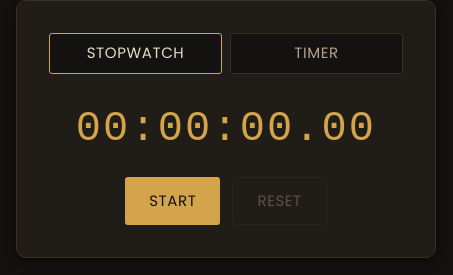
Stopwatch — stopwatch mode › resumes from where it paused, not from zero
This screenshot has width=453, height=275.
Click the button "Start". click: (173, 201)
box: x1=125 y1=176 x2=220 y2=225
Wait 1000 ms
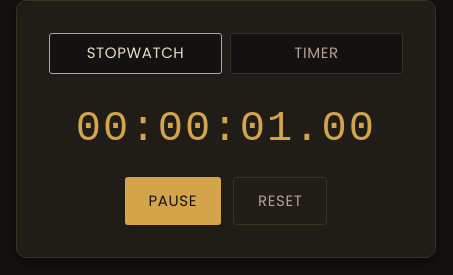
Click the button "Pause". click: (173, 201)
box: x1=125 y1=176 x2=221 y2=225
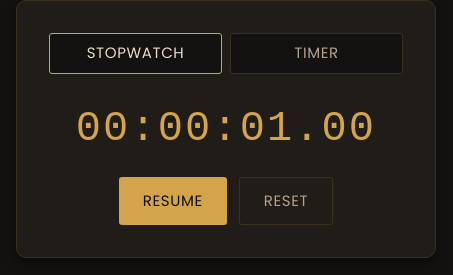
Click the button "Resume". click: (173, 201)
box: x1=119 y1=176 x2=227 y2=225
Wait 1000 ms
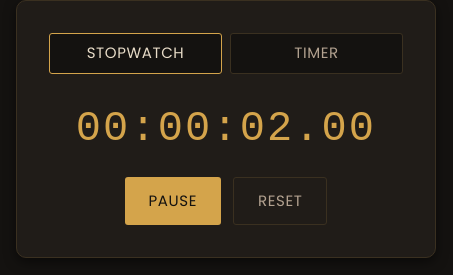
Check: the text with class "stopwatch-display" shows "00:00:02.", box x1=76 y1=104 x2=376 y2=152
